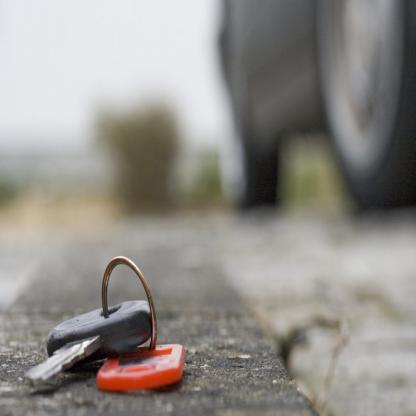keys: (18, 292, 157, 396)
